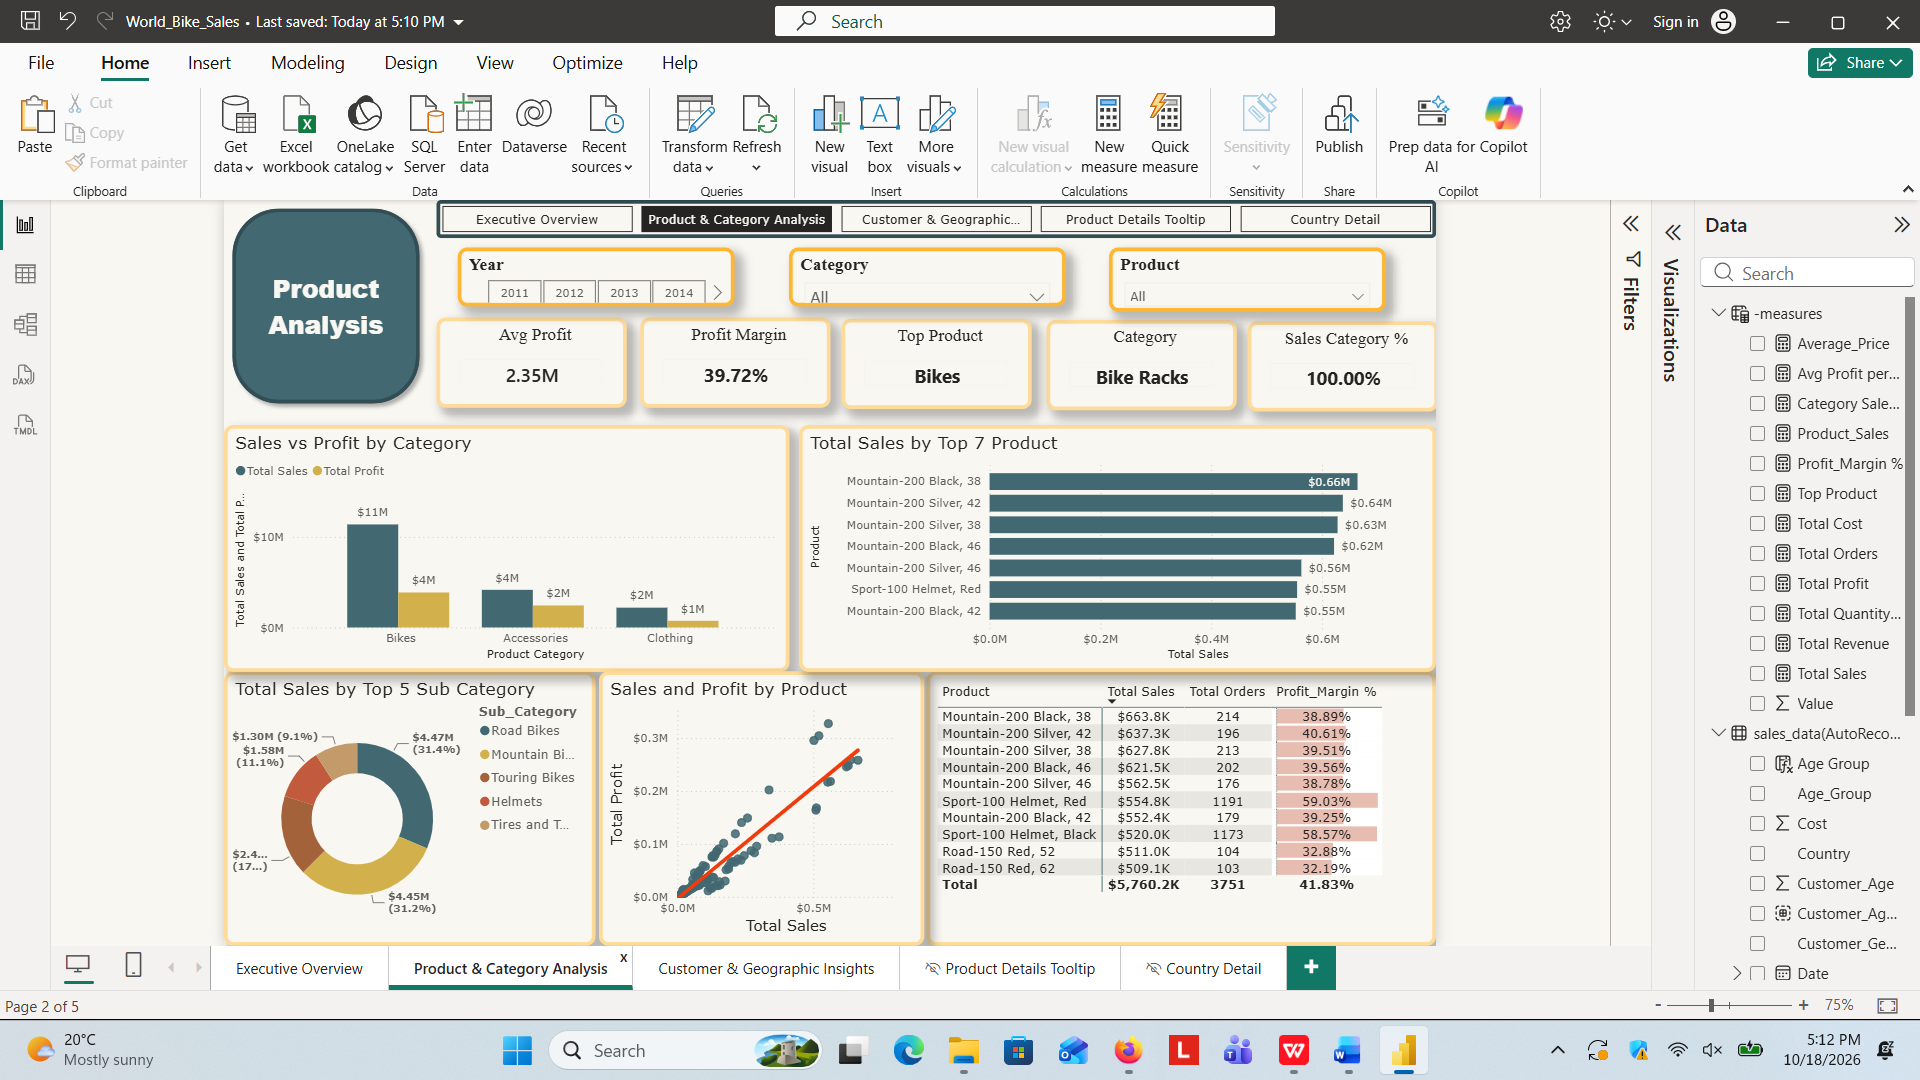

The dashboard page shown, as its layout file describes it:
{"tool":"powerbi","page":{"name":"Product & Category Analysis","canvas":[1300,800],"ordinal":1},"visuals":[{"type":"cardVisual","title":"Category","fields":{"Data":["Min(sales_data(AutoRecovered).Sub_Category)"]},"box":[881.8,128.8,203.9,96.5],"z":0},{"type":"cardVisual","title":"Avg Profit ","fields":{"Data":["-measures.Avg Profit per Product"]},"box":[228.1,126,203.9,96.5],"z":1},{"type":"cardVisual","title":"Profit Margin","fields":{"Data":["-measures.Profit_Margin %"]},"box":[446.5,126,203.9,96.5],"z":2},{"type":"cardVisual","title":"Top Product","fields":{"Data":["-measures.Top Product"]},"box":[662,127.4,203.9,96.5],"z":3},{"type":"cardVisual","title":"Sales Category %","fields":{"Data":["-measures.Category Sales %"]},"box":[1097.3,130.2,203.9,96.5],"z":4},{"type":"donutChart","title":"Total Sales by Top 5 Sub Category","fields":{"Category":["sales_data(AutoRecovered).Sub_Category"],"Y":["-measures.Total Sales"]},"box":[0,505.9,398.6,294.1],"z":5},{"type":"clusteredColumnChart","title":" Sales vs Profit by Category","fields":{"Category":["sales_data(AutoRecovered).Product_Category"],"Y":["-measures.Total Sales","-measures.Total Profit"]},"box":[0,240.7,606.1,264.5],"z":6},{"type":"pivotTable","fields":{"Rows":["sales_data(AutoRecovered).Product"],"Values":["-measures.Total Sales","-measures.Total Orders","-measures.Profit_Margin %"]},"box":[754,505.9,546.3,294.1],"z":7},{"type":"scatterChart","title":"Sales and  Profit by Product","fields":{"Category":["sales_data(AutoRecovered).Product"],"X":["-measures.Total Sales"],"Y":["-measures.Total Profit"]},"box":[402.8,505.9,348.4,294.1],"z":8},{"type":"slicer","title":"Year","fields":{"Values":["sales_data(AutoRecovered).Year"]},"box":[250.5,50.4,296.7,63],"z":9},{"type":"slicer","title":"Category","fields":{"Values":["sales_data(AutoRecovered).Sub_Category"]},"box":[606.1,50.4,296.7,63],"z":10},{"type":"slicer","title":"Product","fields":{"Values":["sales_data(AutoRecovered).Product_Category"]},"box":[949,50.4,296.7,68.6],"z":11},{"type":"clusteredBarChart","title":"Total Sales by Top 7 Product","fields":{"Category":["sales_data(AutoRecovered).Product"],"Y":["-measures.Total Sales"]},"box":[617.3,240.7,682.9,264.8],"z":12},{"type":"shape","box":[0,0,218.8,227.2],"z":13},{"type":"pageNavigator","box":[228.1,0,1072.1,40.6],"z":14}]}

Visuals, with their boxes on the page's 1300x800 design canvas (x1, y1, x2, y2). These are canvas units, not pixel positions in the 1920x1080 screenshot, which may show the page scaled, cropped or inside an application window:
"Category" cardVisual: 882/129/1086/225
"Avg Profit " cardVisual: 228/126/432/222
"Profit Margin" cardVisual: 446/126/650/222
"Top Product" cardVisual: 662/127/866/224
"Sales Category %" cardVisual: 1097/130/1301/227
"Total Sales by Top 5 Sub Category" donutChart: 0/506/399/800
" Sales vs Profit by Category" clusteredColumnChart: 0/241/606/505
pivotTable - sales_data(AutoRecovered).Product x -measures.Total Sales: 754/506/1300/800
"Sales and  Profit by Product" scatterChart: 403/506/751/800
"Year" slicer: 250/50/547/113
"Category" slicer: 606/50/903/113
"Product" slicer: 949/50/1246/119
"Total Sales by Top 7 Product" clusteredBarChart: 617/241/1300/506
shape: 0/0/219/227
pageNavigator: 228/0/1300/41
